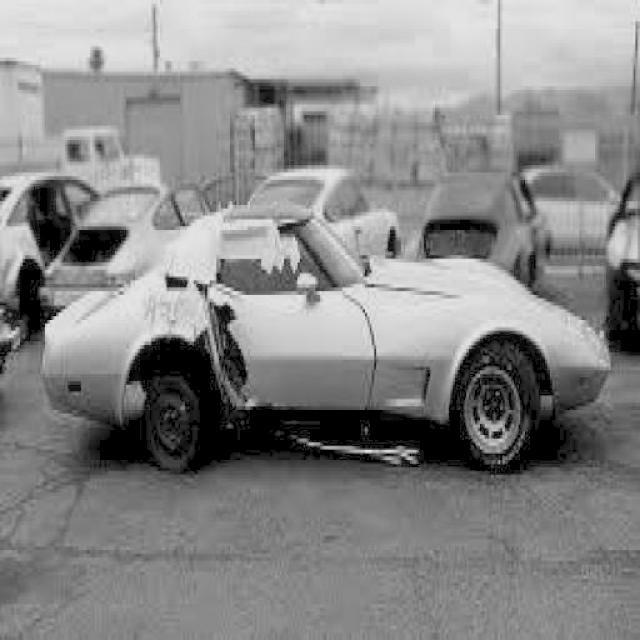car damage: (140, 214, 262, 437)
